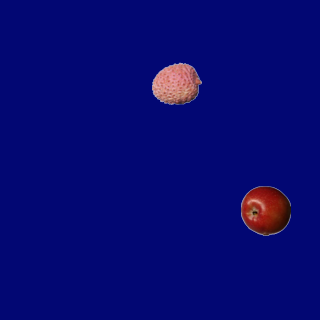Apple Braeburn: (240, 185, 290, 235)
Lychee: (151, 58, 201, 108)
